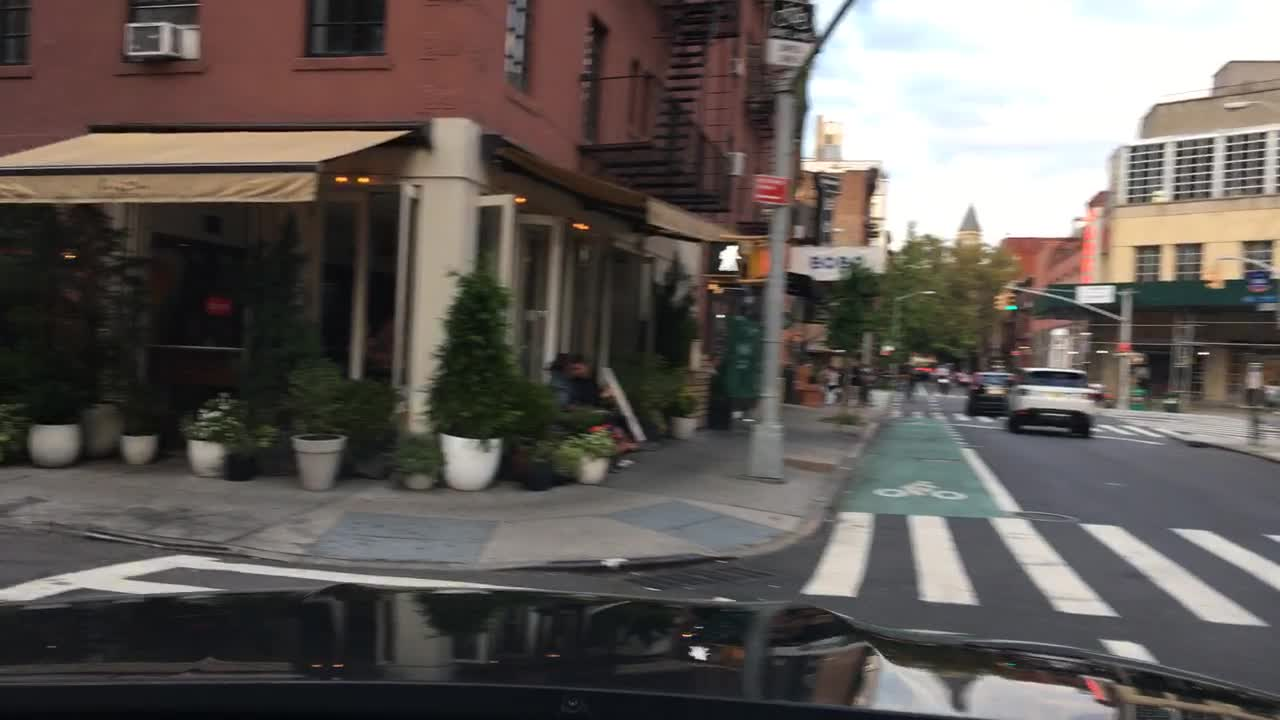car: (1004, 362, 1099, 436), (967, 367, 1017, 417), (906, 349, 935, 381), (1261, 381, 1279, 410), (928, 362, 951, 381), (954, 368, 970, 387)
motor: (937, 377, 951, 394)
person: (568, 349, 598, 411), (548, 349, 571, 413), (783, 359, 795, 402), (828, 365, 839, 389), (850, 364, 860, 387)
rider: (935, 364, 947, 379)
traffic light: (710, 234, 747, 276), (749, 239, 772, 279), (1200, 263, 1225, 288), (1003, 293, 1016, 310), (993, 294, 1000, 310)
traffic sign: (750, 175, 787, 203), (1244, 267, 1271, 293)
